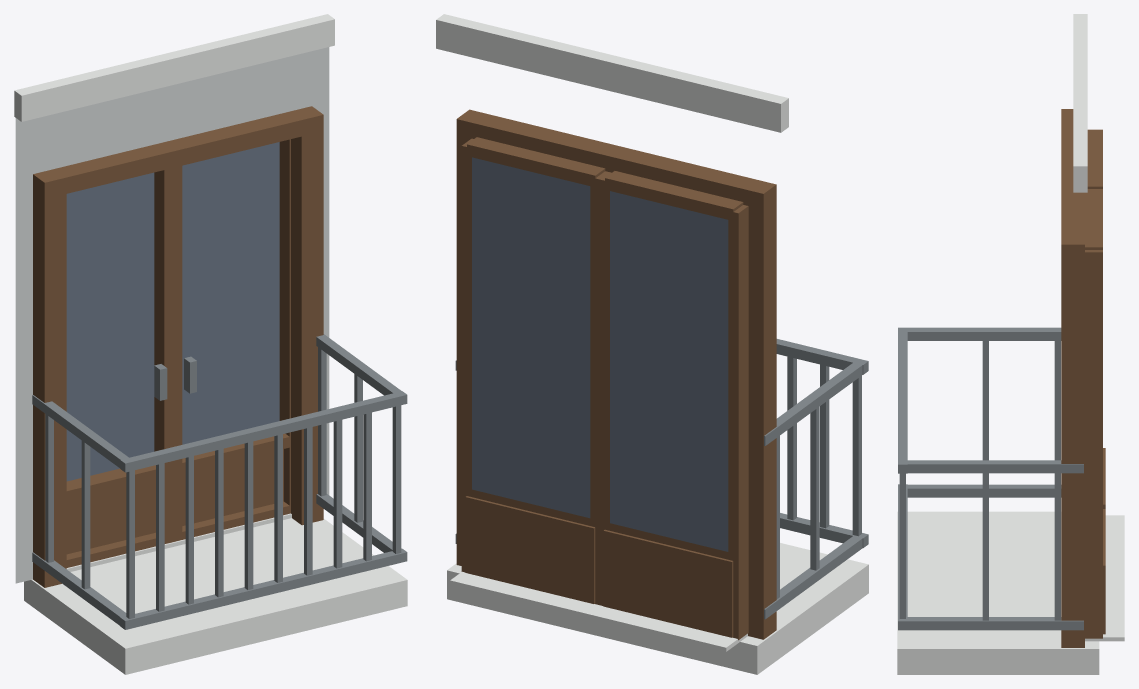
The model's file is Balcony.glb.
3 views of the same model, side by side, from view 1: azimuth 30°, elevation 25°; view 2: azimuth 150°, elevation 25°; view 3: azimuth 270°, elevation 25° (orthographic). The views are drawn at different scales.
Visible parts, largest first — view 1: PBK_Continuous_Frame_Modern_Balcony.001, PBK_balcony_slab.001, PBK_Modern_Balcony_Exterior_Surface.001, PBK_balcony_door_glass.002, PBK_balcony_door_glass.001, PBK_floor_band.048, PBK_door_stile.009, PBK_front_rail.004, PBK_door_kick_panel.001, PBK_front_rail.001, PBK_door_stile.011, PBK_door_kick_panel.002 (+24 smaller); view 2: PBK_balcony_door_glass.001, PBK_balcony_door_glass.002, PBK_Continuous_Frame_Modern_Balcony.001, PBK_floor_band.048, PBK_balcony_slab.001, PBK_door_kick_panel.001, PBK_door_kick_panel.002, PBK_door_stile.008, PBK_door_threshold.002, PBK_door_stile.011, PBK_door_stile.009, PBK_door_stile.010 (+13 smaller); view 3: PBK_balcony_slab.001, PBK_Continuous_Frame_Modern_Balcony.001, PBK_door_stile.011, PBK_floor_band.048, PBK_door_threshold.002, PBK_side_rail.005, PBK_side_rail.007, PBK_side_rail.006, PBK_side_rail.004, PBK_front_rail.004, PBK_door_rail.017, PBK_side_baluster.006 (+7 smaller).
Part boxes in pixels (<box>): PBK_Continuous_Frame_Modern_Balcony.001: <box>33,106,323,587</box>; PBK_balcony_slab.001: <box>24,518,407,674</box>; PBK_Modern_Balcony_Exterior_Surface.001: <box>15,47,329,583</box>; PBK_balcony_door_glass.002: <box>182,142,279,444</box>; PBK_balcony_door_glass.001: <box>66,172,154,481</box>; PBK_floor_band.048: <box>14,14,334,121</box>; PBK_door_stile.009: <box>154,168,173,543</box>; PBK_front_rail.004: <box>120,391,407,472</box>; PBK_door_kick_panel.001: <box>66,480,155,554</box>; PBK_front_rail.001: <box>120,549,407,629</box>; PBK_door_stile.011: <box>279,139,290,512</box>; PBK_door_kick_panel.002: <box>182,449,283,525</box>; PBK_balcony_door_glass.001: <box>610,191,728,551</box>; PBK_balcony_door_glass.002: <box>472,157,590,518</box>; PBK_Continuous_Frame_Modern_Balcony.001: <box>456,109,776,639</box>; PBK_floor_band.048: <box>436,14,788,132</box>; PBK_balcony_slab.001: <box>447,543,868,674</box>; PBK_door_kick_panel.001: <box>603,529,733,637</box>; PBK_door_kick_panel.002: <box>465,496,595,603</box>; PBK_door_stile.008: <box>728,205,748,640</box>; PBK_door_threshold.002: <box>450,571,747,651</box>; PBK_door_stile.011: <box>461,138,473,572</box>; PBK_door_stile.009: <box>599,172,611,605</box>; PBK_door_stile.010: <box>590,171,609,604</box>; PBK_balcony_slab.001: <box>897,511,1099,674</box>; PBK_Continuous_Frame_Modern_Balcony.001: <box>1061,109,1084,647</box>; PBK_door_stile.011: <box>1085,250,1102,638</box>; PBK_floor_band.048: <box>1073,14,1087,192</box>; PBK_door_threshold.002: <box>1085,515,1124,641</box>; PBK_side_rail.005: <box>898,617,1083,630</box>; PBK_side_rail.007: <box>898,460,1083,473</box>; PBK_side_rail.006: <box>898,327,1061,340</box>; PBK_side_rail.004: <box>899,484,1061,497</box>; PBK_front_rail.004: <box>898,327,907,473</box>; PBK_door_rail.017: <box>1085,190,1102,249</box>; PBK_side_baluster.006: <box>1054,473,1060,620</box>.
Bounding box in the file's own units: 2 × 3.16 × 1.26.
